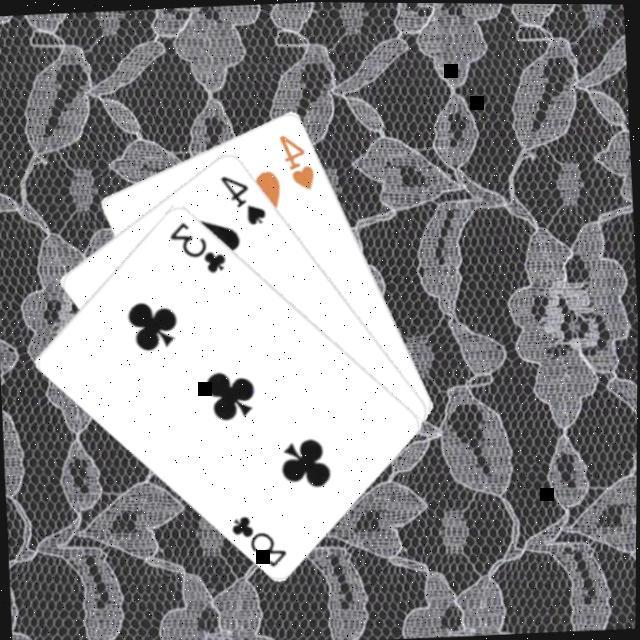3C: (228, 510, 294, 573), (166, 217, 231, 280)
4H: (276, 130, 320, 194)
4S: (218, 170, 272, 232)
